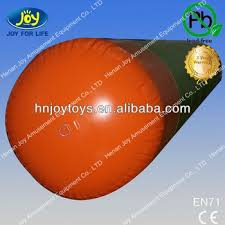buoy: (5, 39, 181, 200)
